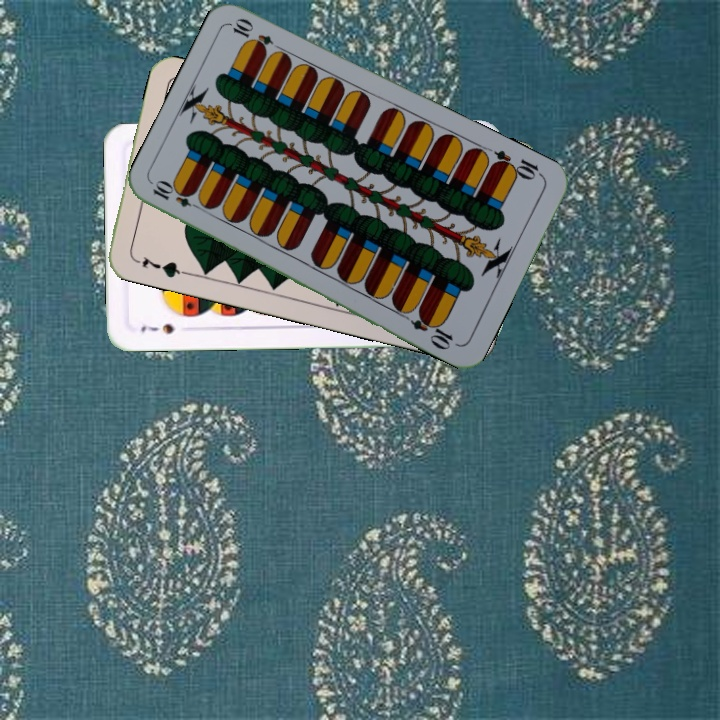E10: (487, 146, 546, 183), (148, 178, 206, 213)
G7: (129, 252, 188, 281)
S7: (137, 319, 178, 337)
